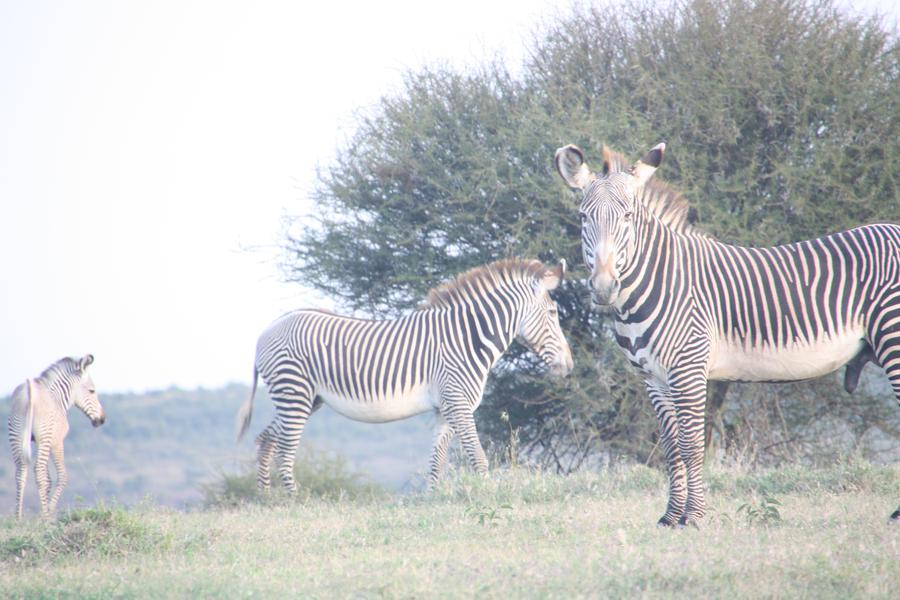zebra_grevys: (253, 305, 473, 402)
